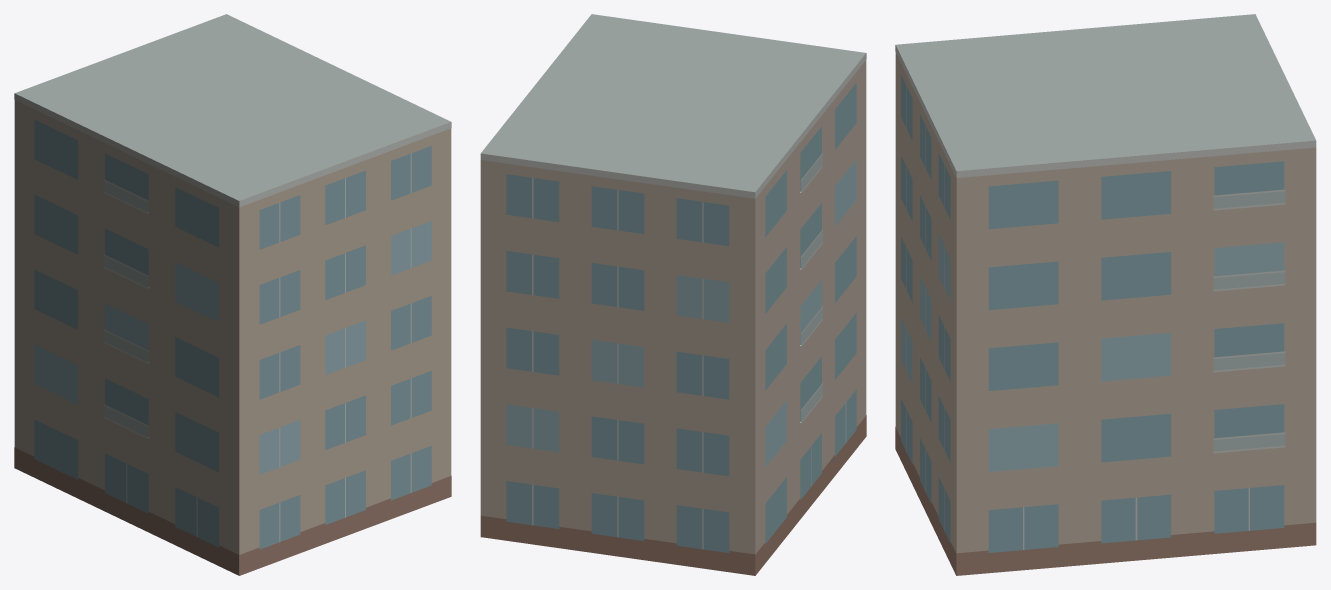
The model's file is survey-upis-32996851.glb.
The picture shows the model from 3 angles, left to right: view 1: azimuth 30°, elevation 25°; view 2: azimuth 150°, elevation 25°; view 3: azimuth 270°, elevation 25°; orthographic projection. The views are drawn at different scales.
Visible parts, largest first — view 1: survey-upis-32996851.tmp; view 2: survey-upis-32996851.tmp; view 3: survey-upis-32996851.tmp.
Part boxes in pixels (bbox=[...]): survey-upis-32996851.tmp: bbox=[14, 14, 451, 575]; survey-upis-32996851.tmp: bbox=[480, 14, 866, 575]; survey-upis-32996851.tmp: bbox=[895, 14, 1316, 575].
Size of the model in its own units: 12.01 by 14.4 by 13.58.
